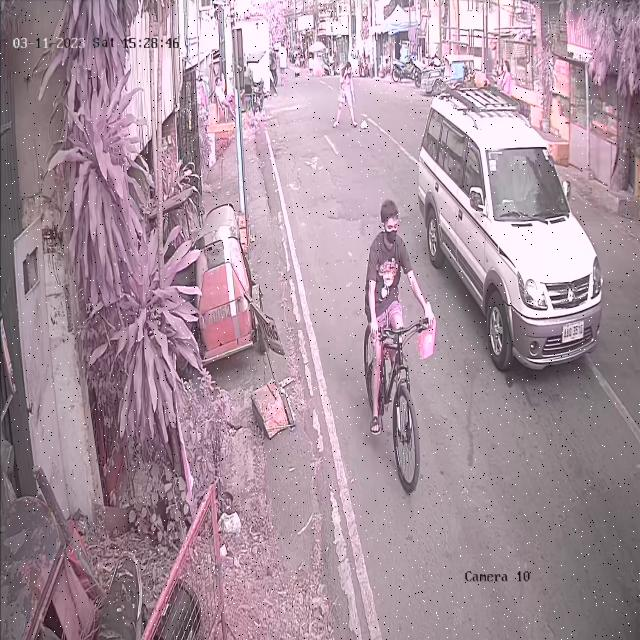human: (332, 62, 368, 130)
trash: (359, 114, 370, 132)
